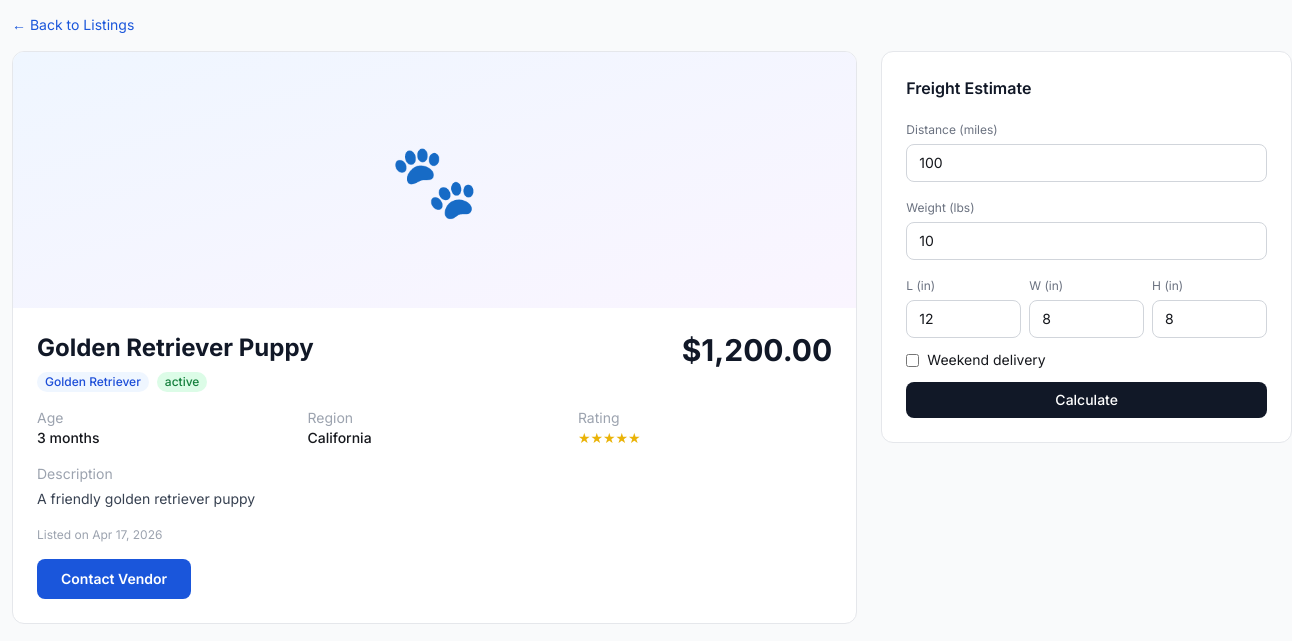
Scenario: ListingDetail — freight calculator › shows freight result after calculate is clicked
The image size is (1292, 641).
Click the button "Calculate". click: (1087, 400)
box: [906, 382, 1267, 418]
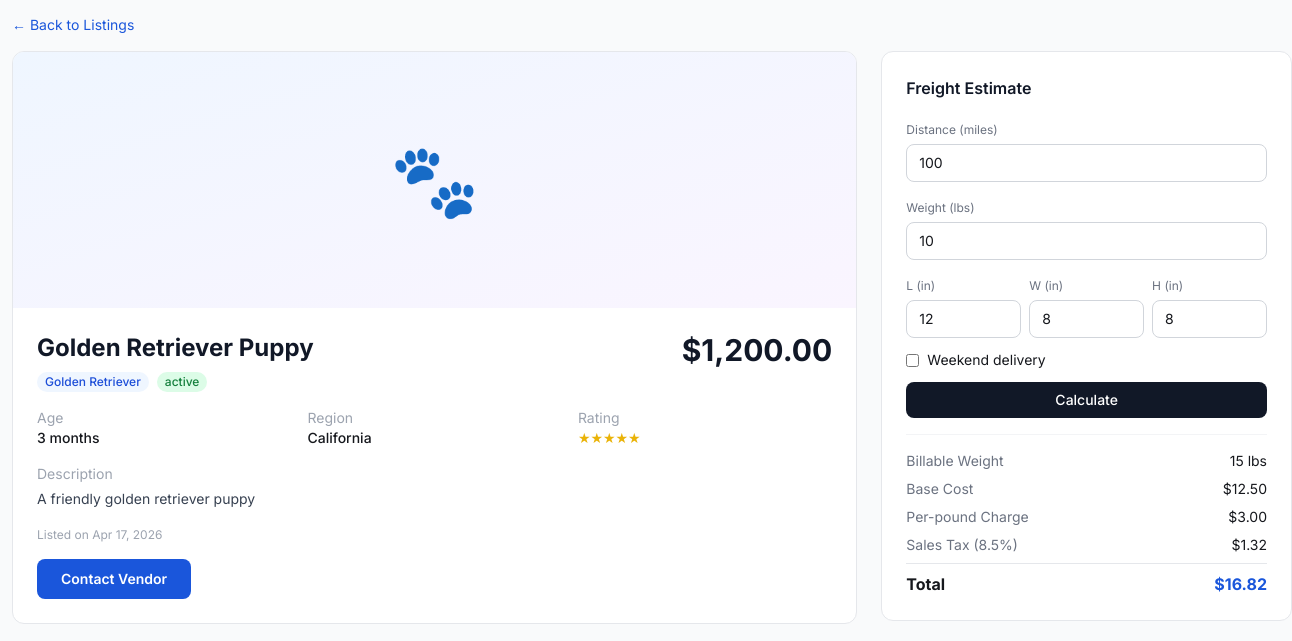
Expected: the text "Total" is shown, [906, 572, 945, 596]
Expected: the text "$16.82" is shown, [1214, 572, 1267, 596]
